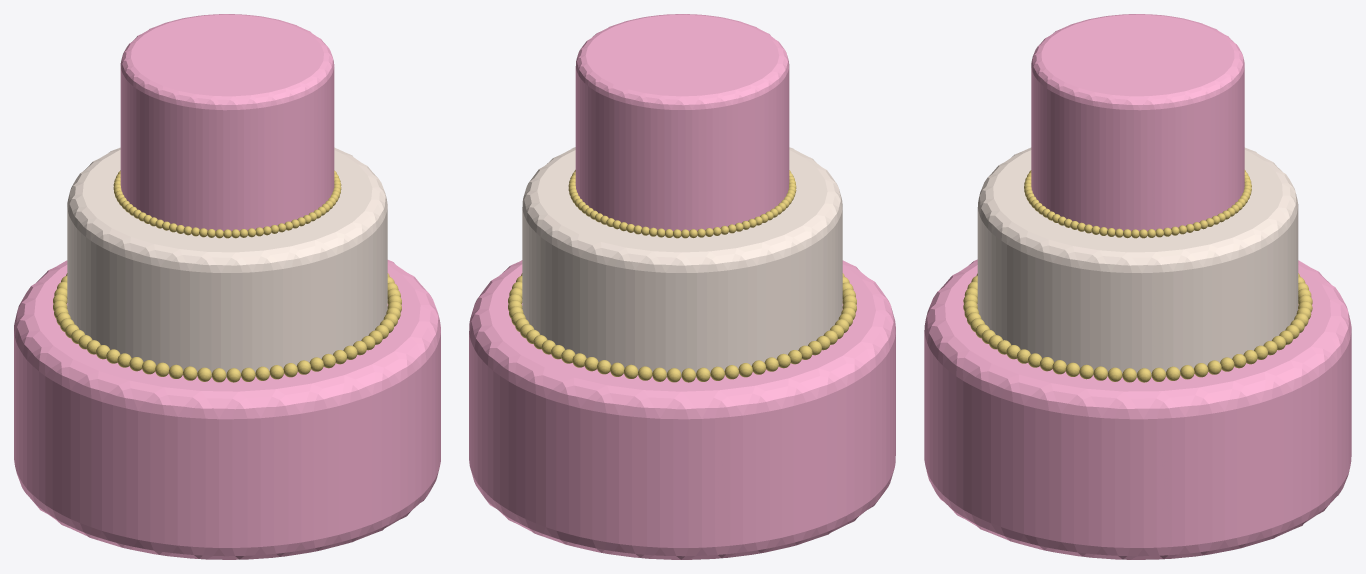
File: pastel.fbx
The picture shows the model from 3 angles, left to right: view 1: azimuth 30°, elevation 25°; view 2: azimuth 150°, elevation 25°; view 3: azimuth 270°, elevation 25°; orthographic projection.
Parts seen in each view (by area): view 1: Cylinder.001; view 2: Cylinder.001; view 3: Cylinder.001.
Boxes of the visible parts, <box> form: Cylinder.001: <box>14,14,440,559</box>; Cylinder.001: <box>469,14,895,559</box>; Cylinder.001: <box>924,14,1351,559</box>.
Bounding box in the file's own units: 398 × 433 × 398.
